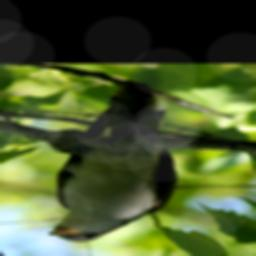Cuckoo: (47, 82, 180, 242)
